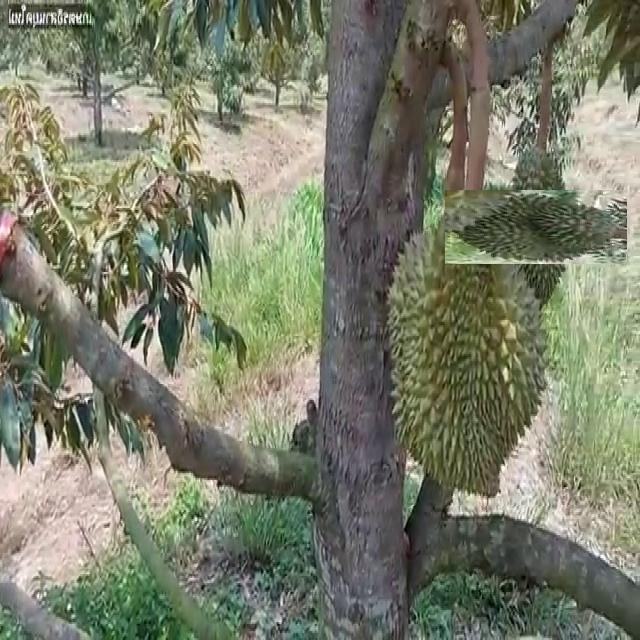durian: (378, 200, 548, 506), (471, 163, 600, 291)
